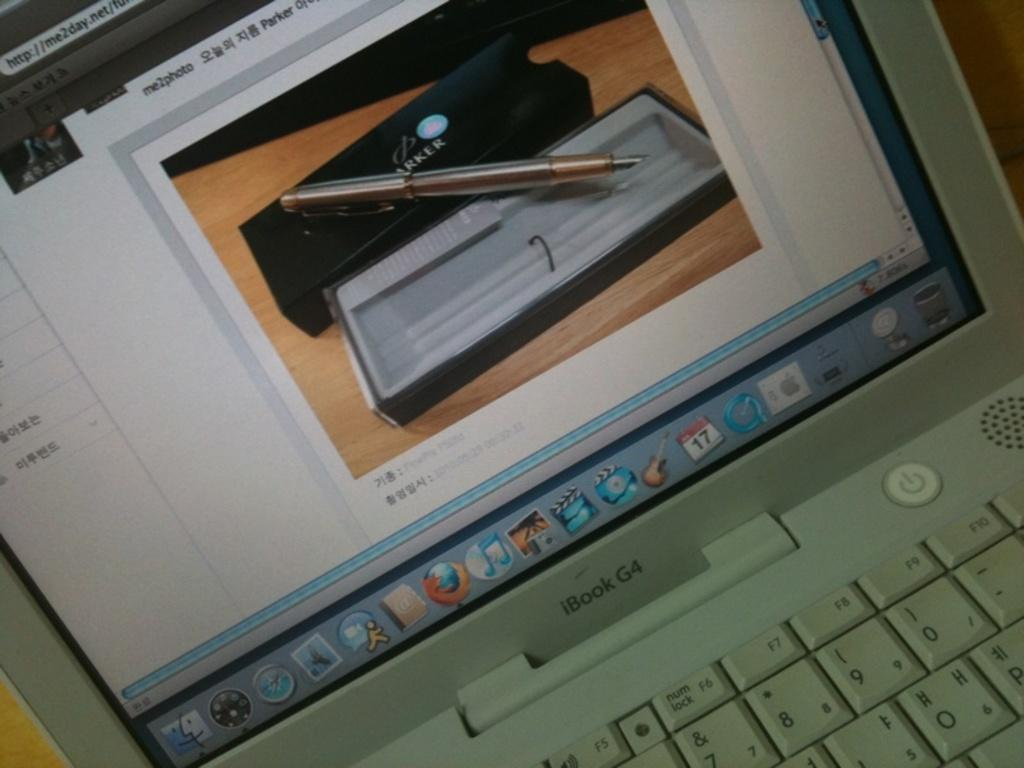pen: (271, 160, 649, 221)
